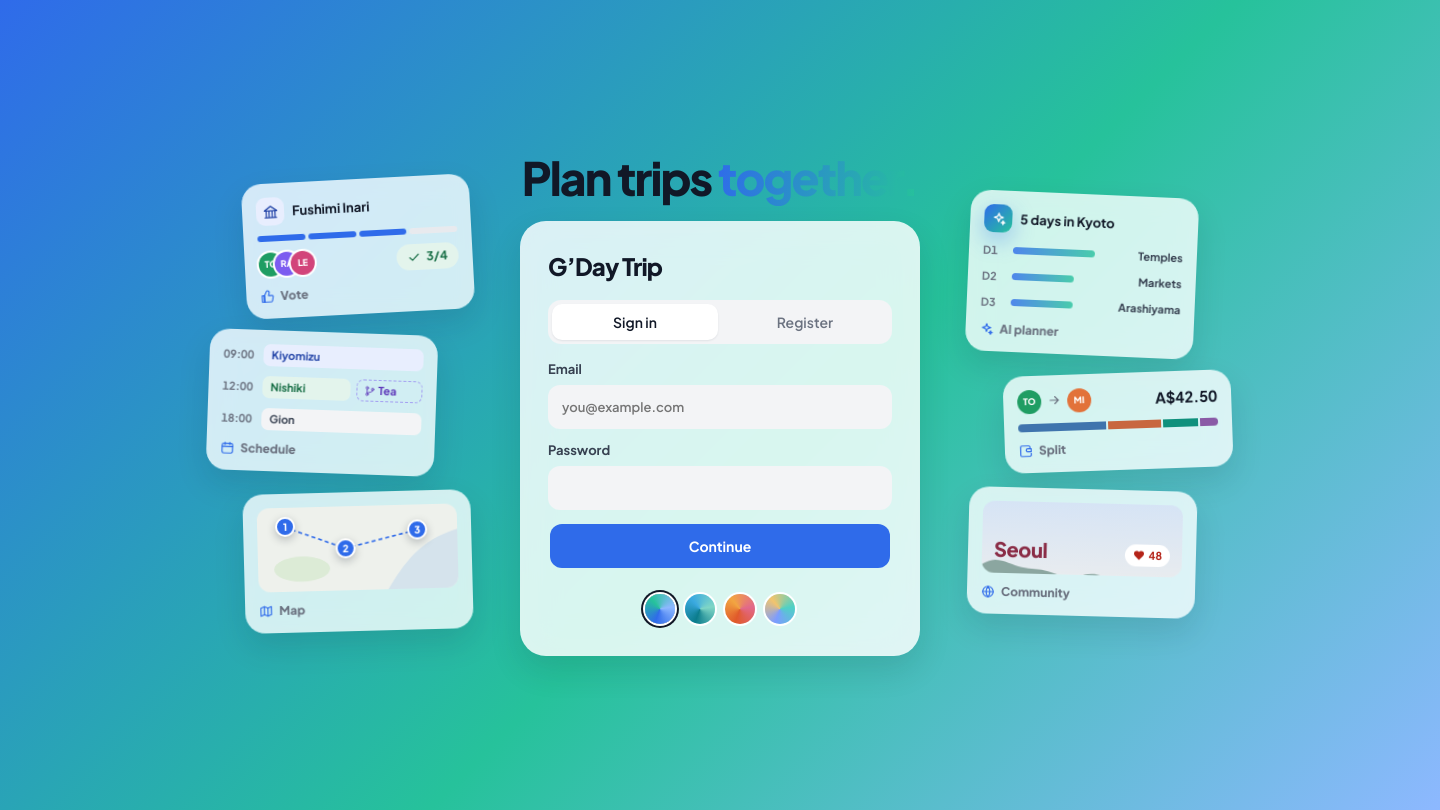
Test case: Sign in and register › a wrong password shows the server's message
Type "mia@example.test" into the field labelled "Email".
click(720, 407); type("mia@example.test")  # box [548,385,892,429]
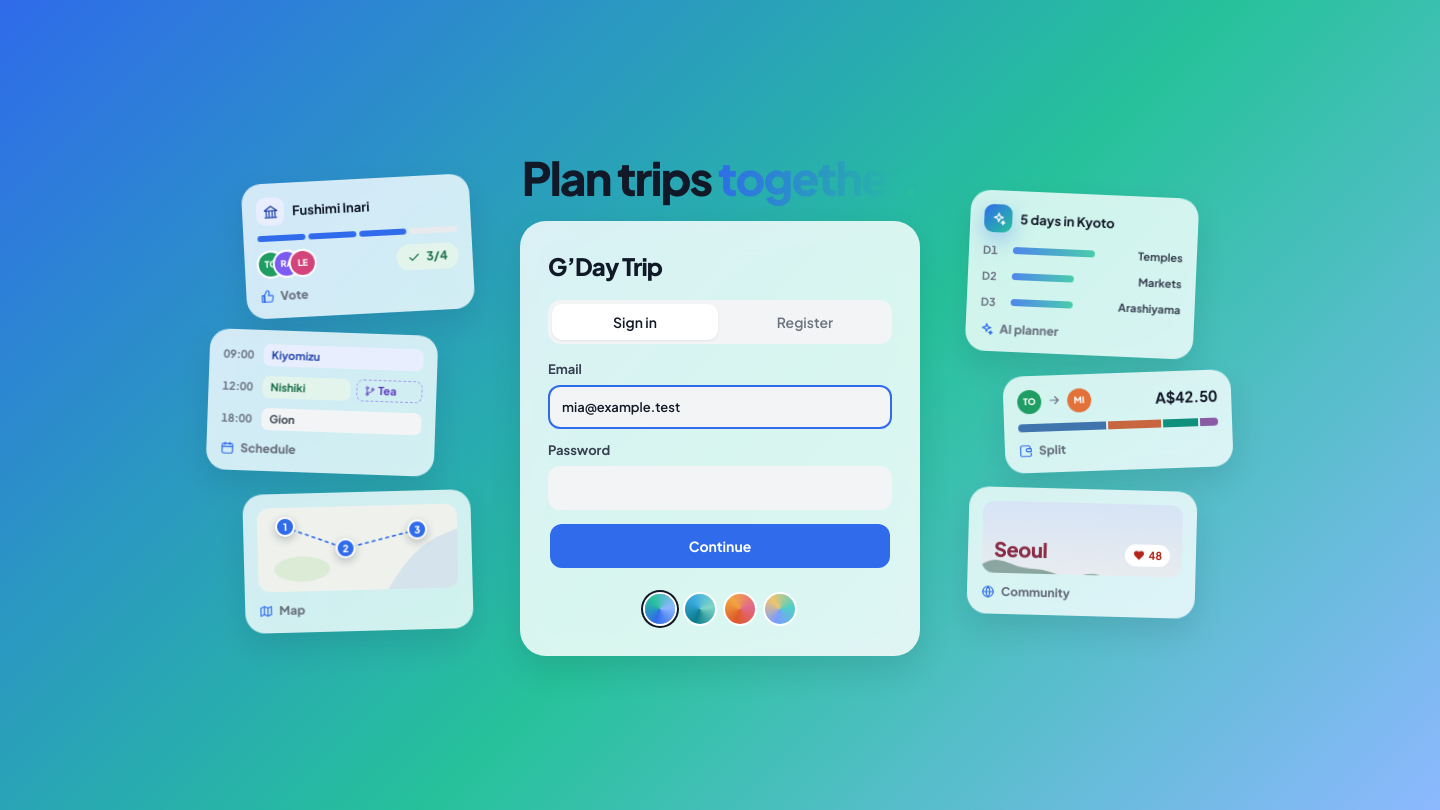
Type "wrong-pass-1" into the password field labelled "Password".
click(720, 488); type("wrong-pass-1")  # box [548,466,892,510]
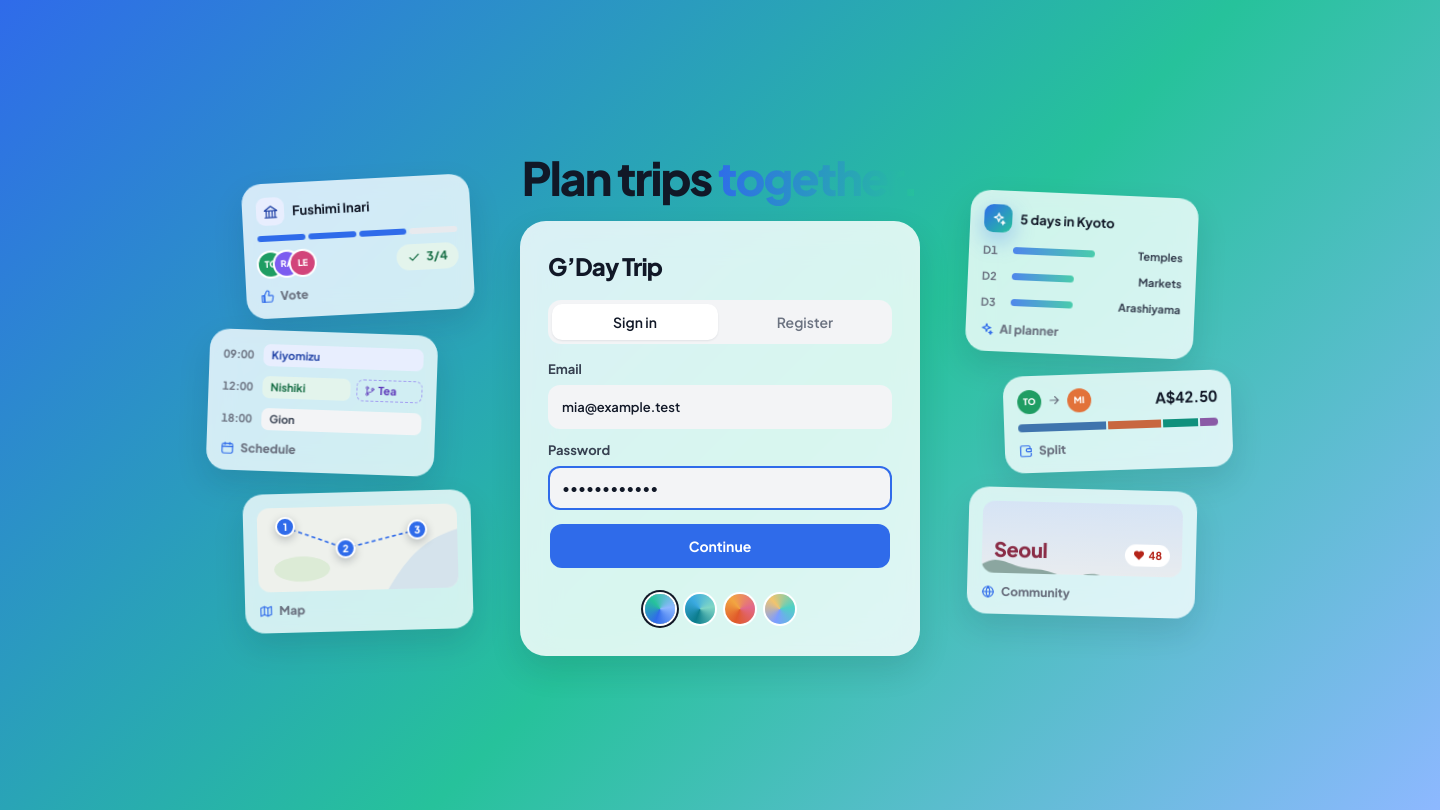
Click the button "Continue".
click(720, 546)  # box [550,524,890,568]
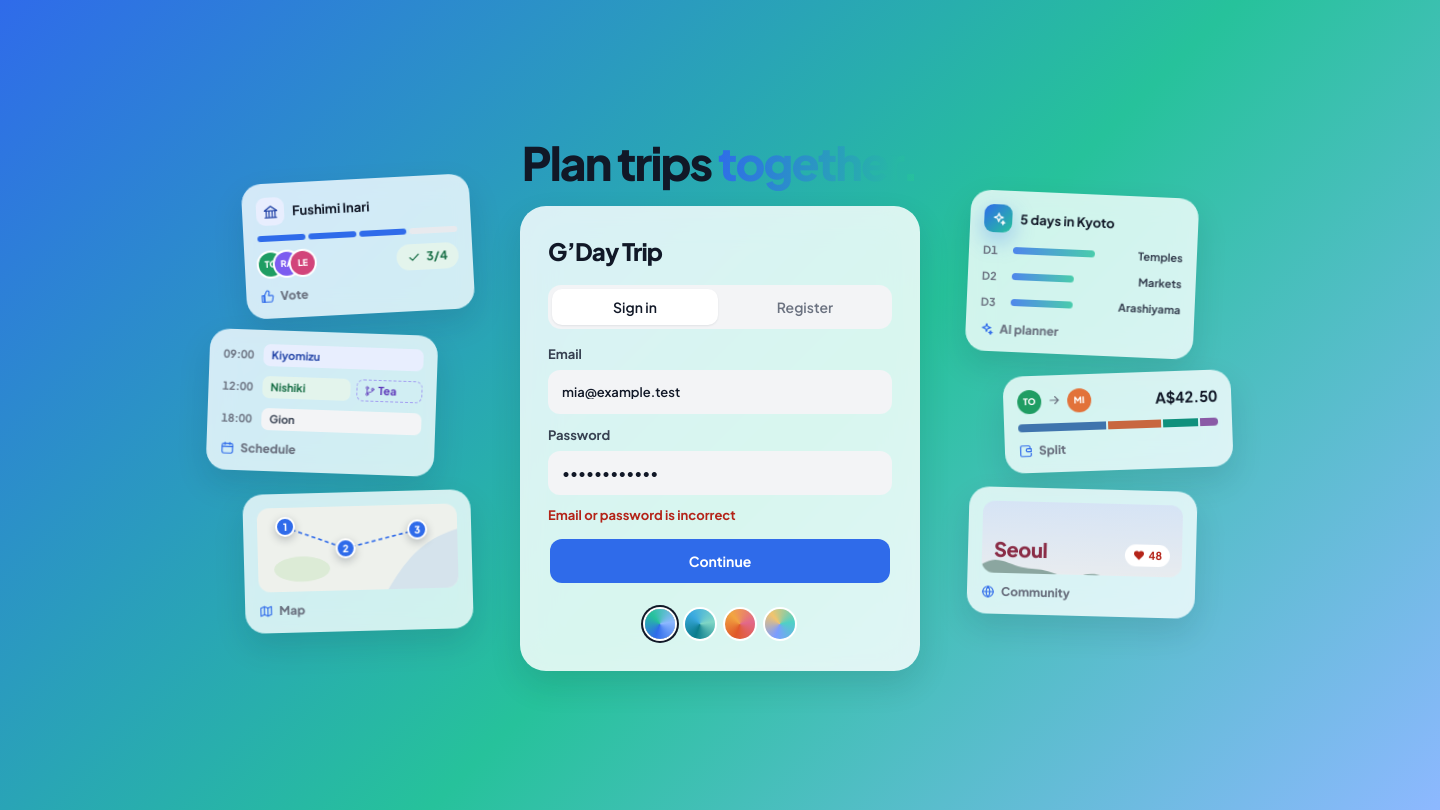
Expected: the text "Email or password is incorrect" is shown, [548,507,736,523]
